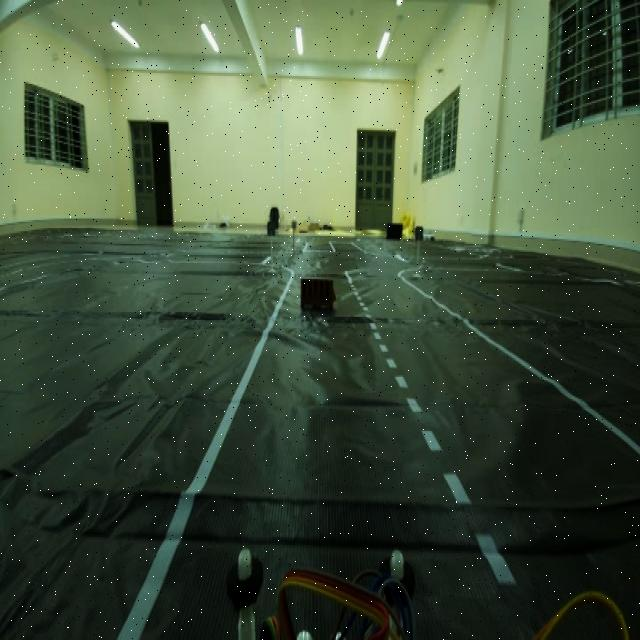roadblock: (297, 272, 341, 318)
